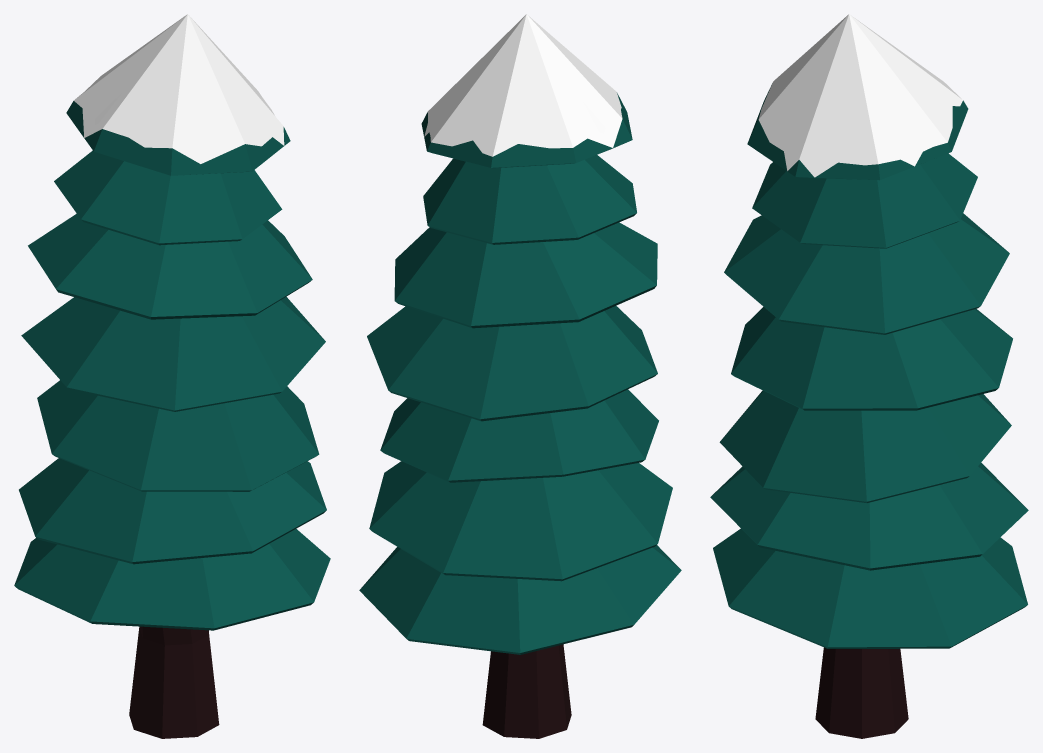
File: pine2.obj
3 renders of one model, left to right at view 1: azimuth 30°, elevation 25°; view 2: azimuth 150°, elevation 25°; view 3: azimuth 270°, elevation 25°, orthographic.
Visible parts, largest first — view 1: Cylinder.008, Cylinder; view 2: Cylinder.008, Cylinder; view 3: Cylinder.008, Cylinder.
Boxes of the visible parts, x1,y1,x2,y2 form: Cylinder.008: (14,14,330,630); Cylinder: (129,626,219,738); Cylinder.008: (359,14,681,654); Cylinder: (482,644,571,738); Cylinder.008: (710,14,1028,648); Cylinder: (815,647,908,738).
Bounding box in the file's own units: 19.26 × 47.21 × 19.24.
